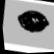correct: (13, 5, 53, 38)
